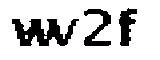2: (81, 6, 114, 51)
f: (116, 8, 140, 51)
v: (50, 16, 78, 51)
w: (7, 15, 55, 49)
